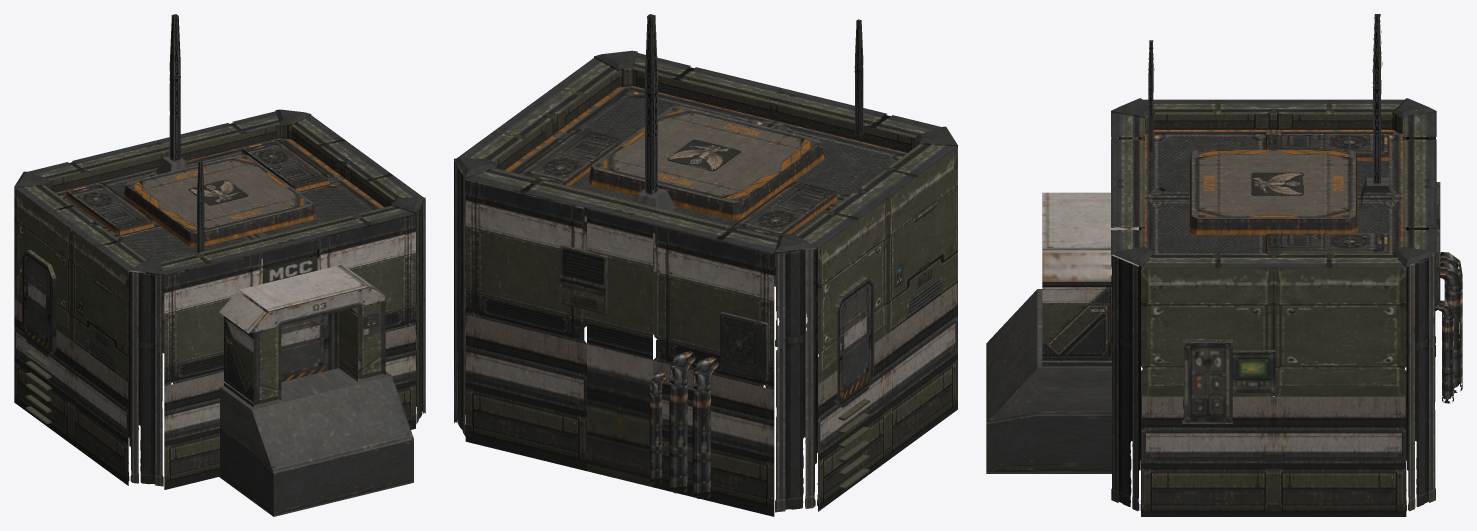
File: barracks.dae
3 views of the same model, side by side, from view 1: azimuth 30°, elevation 25°; view 2: azimuth 150°, elevation 25°; view 3: azimuth 270°, elevation 25° (orthographic). The views are drawn at different scales.
Parts seen in each view (by area): view 1: BARRACKS; view 2: BARRACKS; view 3: BARRACKS.
Part boxes in pixels (x1,y1,x2,y2): BARRACKS: [14, 14, 425, 516]; BARRACKS: [454, 14, 957, 516]; BARRACKS: [986, 14, 1462, 516].
Size of the model in its own units: 22.93 by 26.33 by 25.54.
